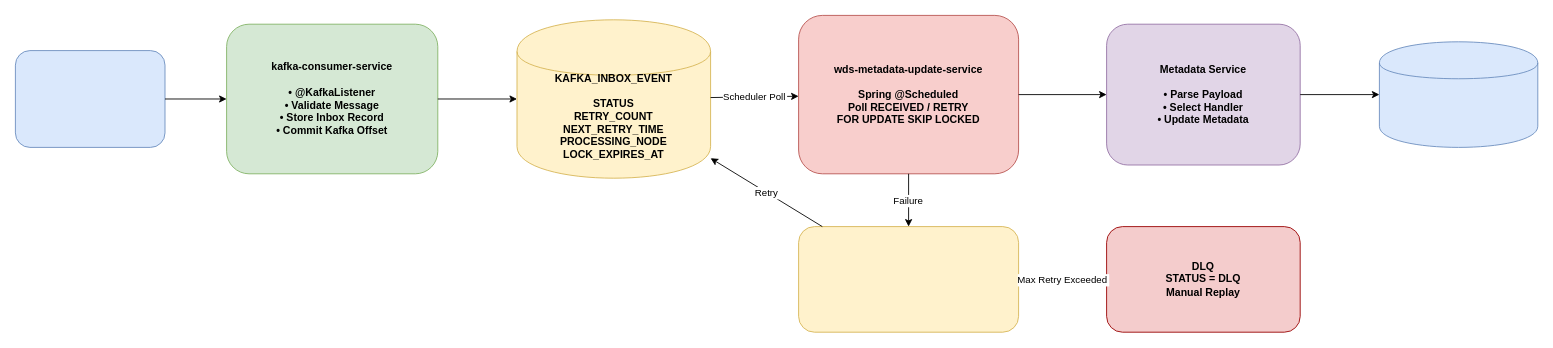
This 1553x348 diagram has some shape labels left out. The centre of each missing label's shape, as x and y in pixels:
Kafka Topics DocHub FileNet DMS: [90,98]
Retry Logic RETRY_COUNT++ NEXT_RETRY_TIME Exponential Backoff: [908,279]
WDS Metadata DB: [1458,94]
